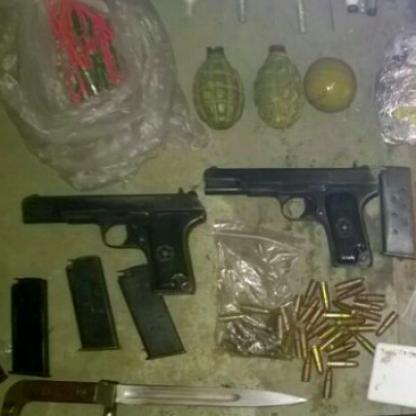Grenade: (252, 43, 307, 130), (195, 46, 246, 131)
Knife: (0, 376, 312, 415)
Pistol: (22, 187, 206, 295), (203, 160, 380, 272)
